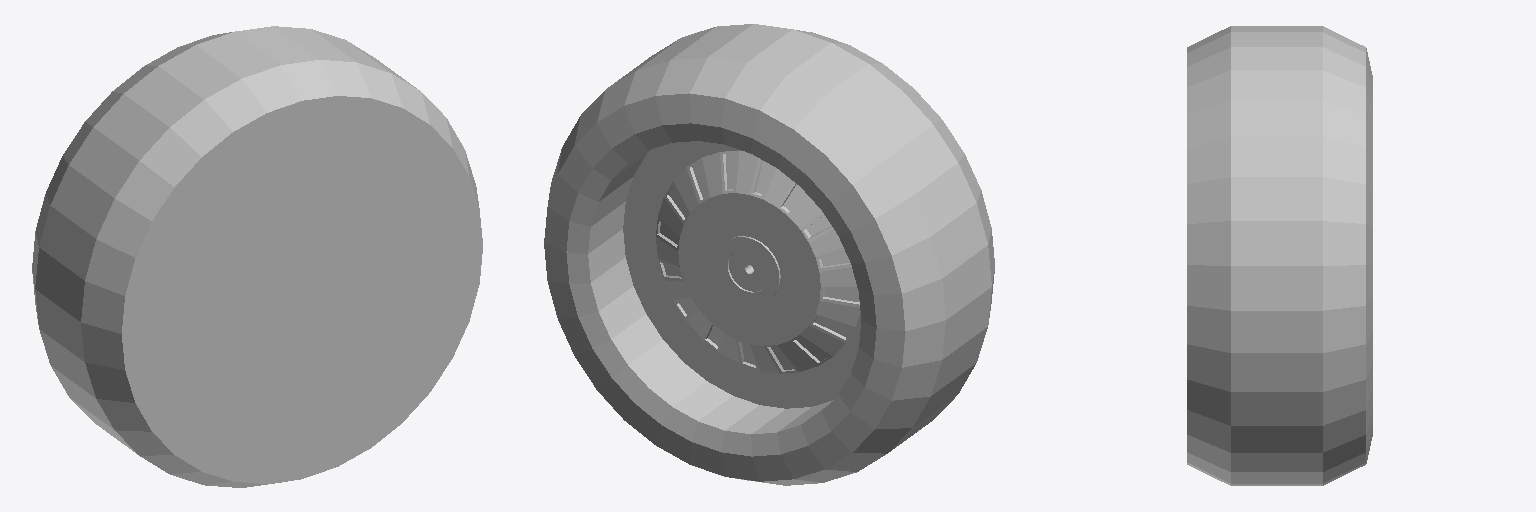
File: WBR.obj
3 views of the same model, side by side, from view 1: azimuth 30°, elevation 25°; view 2: azimuth 150°, elevation 25°; view 3: azimuth 270°, elevation 25° (orthographic).
Parts seen in each view (by area): view 1: wheel; view 2: wheel; view 3: wheel.
Boxes of the visible parts, x1=… form: wheel: x1=32, y1=26, x2=482, y2=487; wheel: x1=544, y1=24, x2=994, y2=485; wheel: x1=1187, y1=26, x2=1372, y2=485.
Size of the model in its own units: 1.81 by 1.81 by 0.7302.